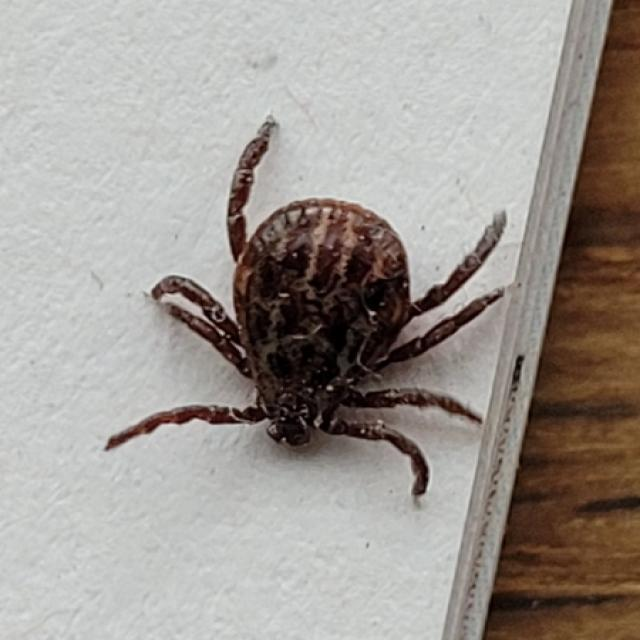Dermacentor Reticulatus-F: (104, 116, 506, 496)
